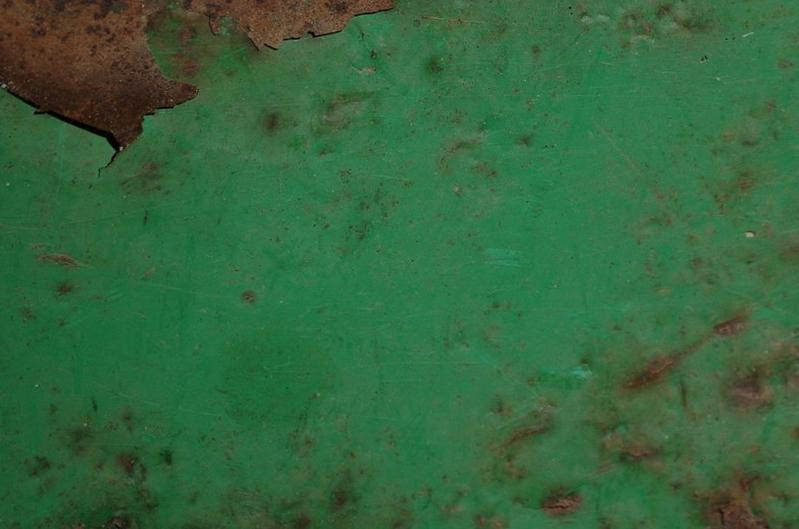rust: (8, 1, 195, 148), (216, 1, 395, 38), (706, 315, 774, 409), (629, 341, 687, 389)
